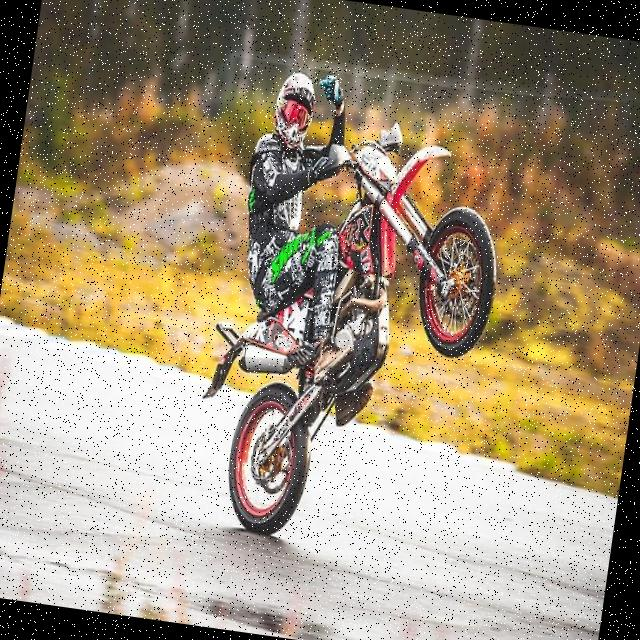Wheeling: (157, 53, 532, 570)
